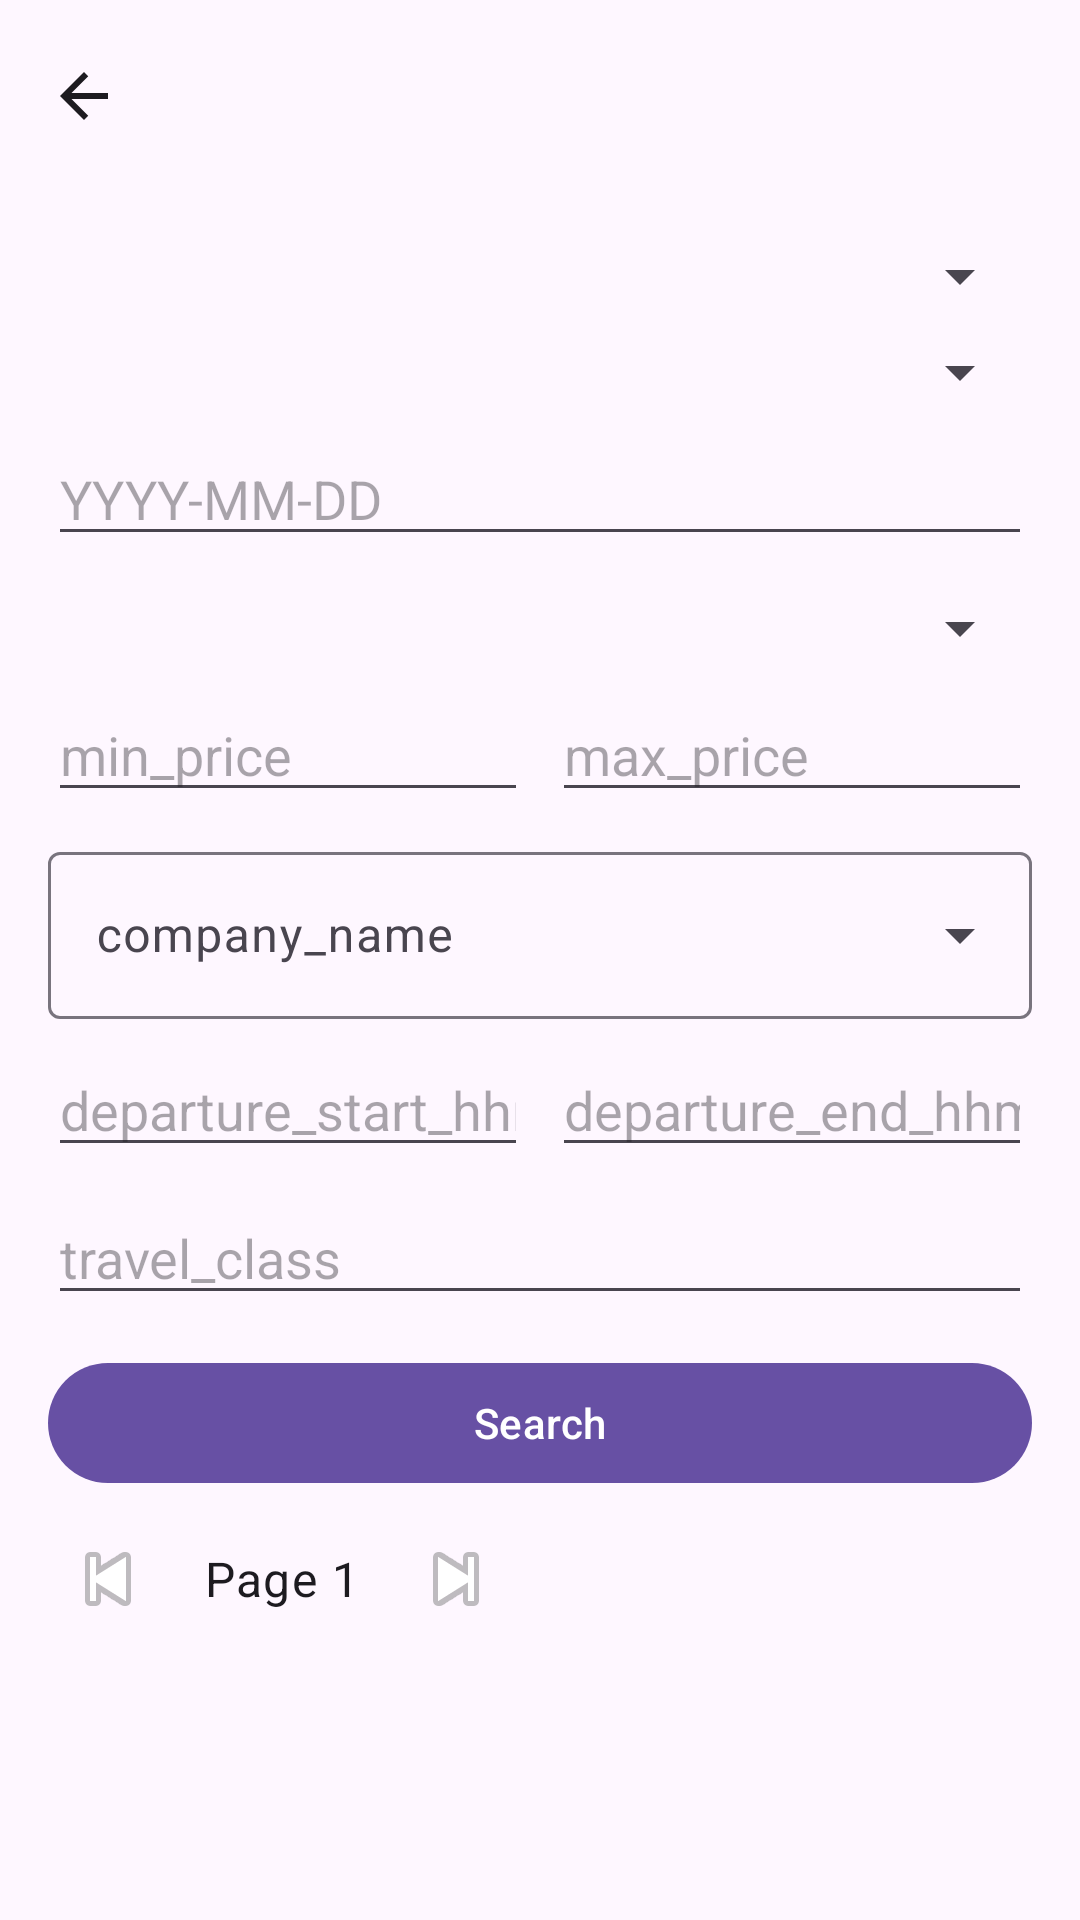

Screen size 1080 x 1920. Icon name, then its center in pixels as [x,y]:
next: [456,1579]
previous: [108,1579]
